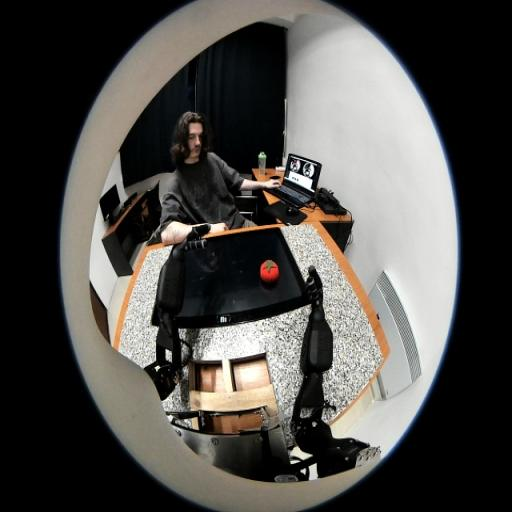LeftHand: (180, 235, 194, 251)
RightHand: (311, 290, 323, 311)
Tomato: (260, 260, 279, 282)
